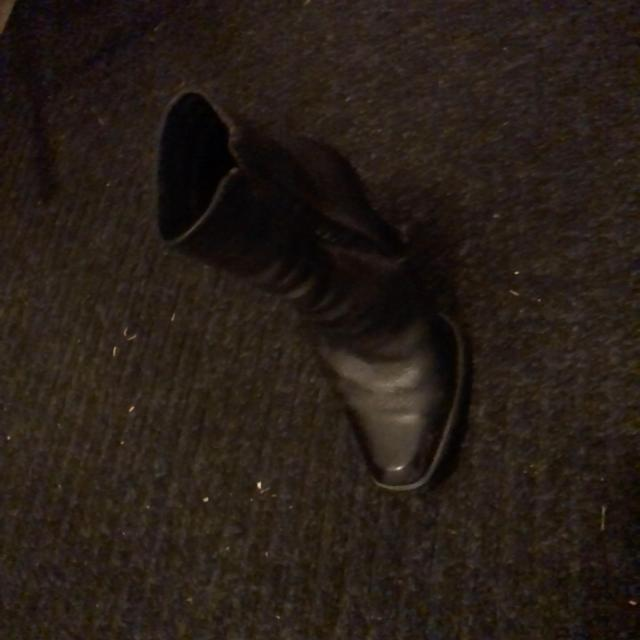shoe: (154, 92, 475, 496)
